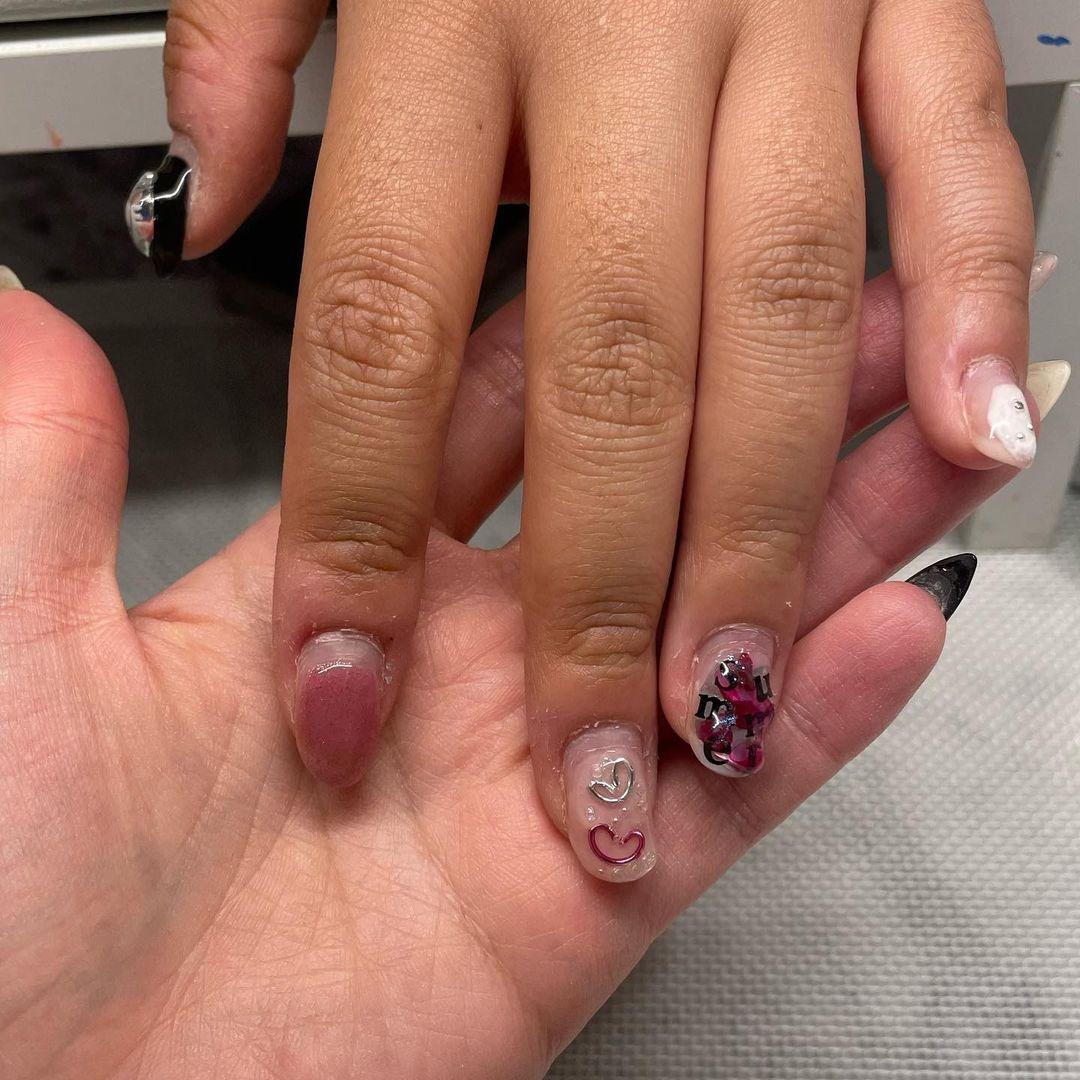nail: (289, 627, 390, 788), (559, 717, 656, 883), (686, 622, 778, 778), (123, 135, 196, 275), (960, 353, 1038, 468), (904, 551, 977, 621)
